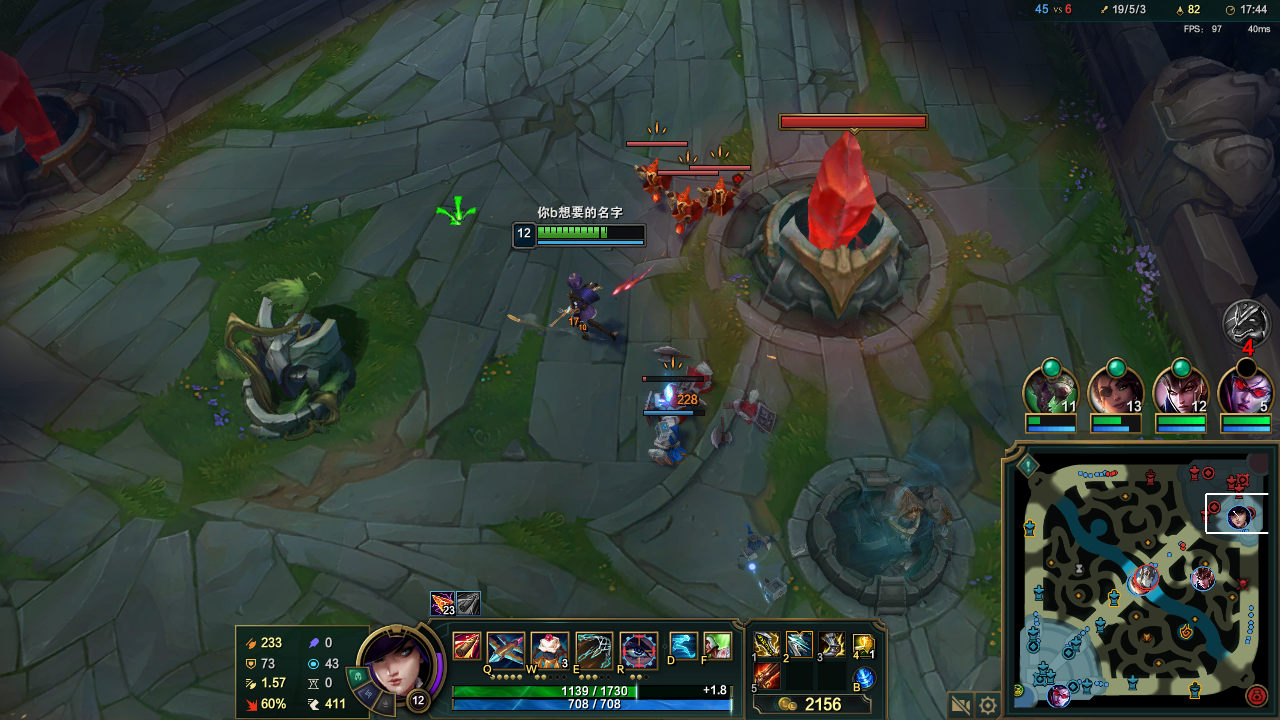DFSJ: (762, 110, 925, 318)
DFXB: (664, 190, 704, 223), (646, 382, 690, 411), (708, 181, 740, 215), (640, 160, 670, 195)
KF: (789, 634, 808, 647)
WFXB: (650, 431, 695, 469)
